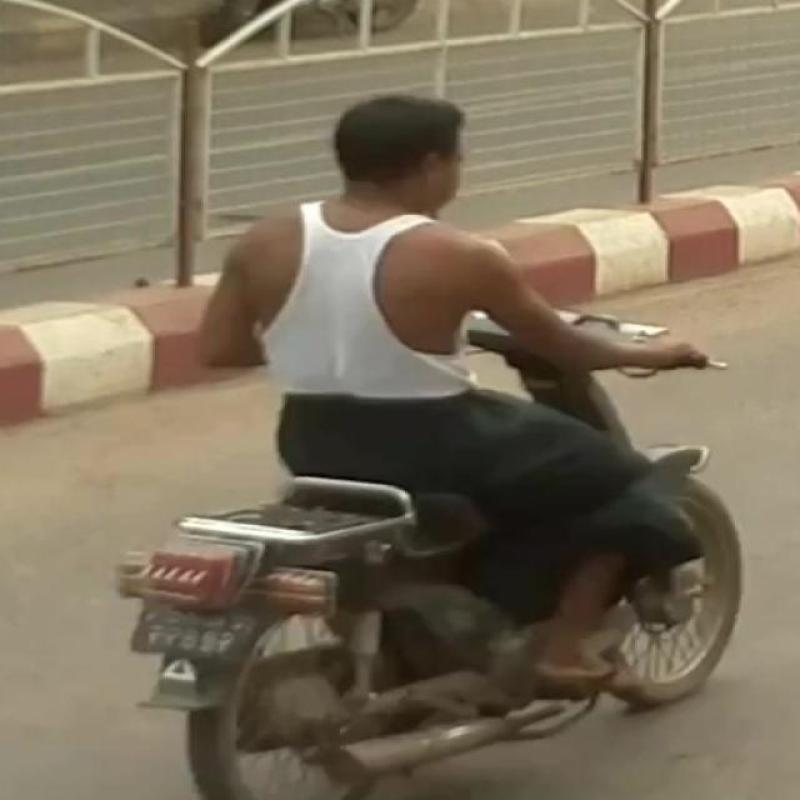nohelmet: (314, 78, 506, 244)
